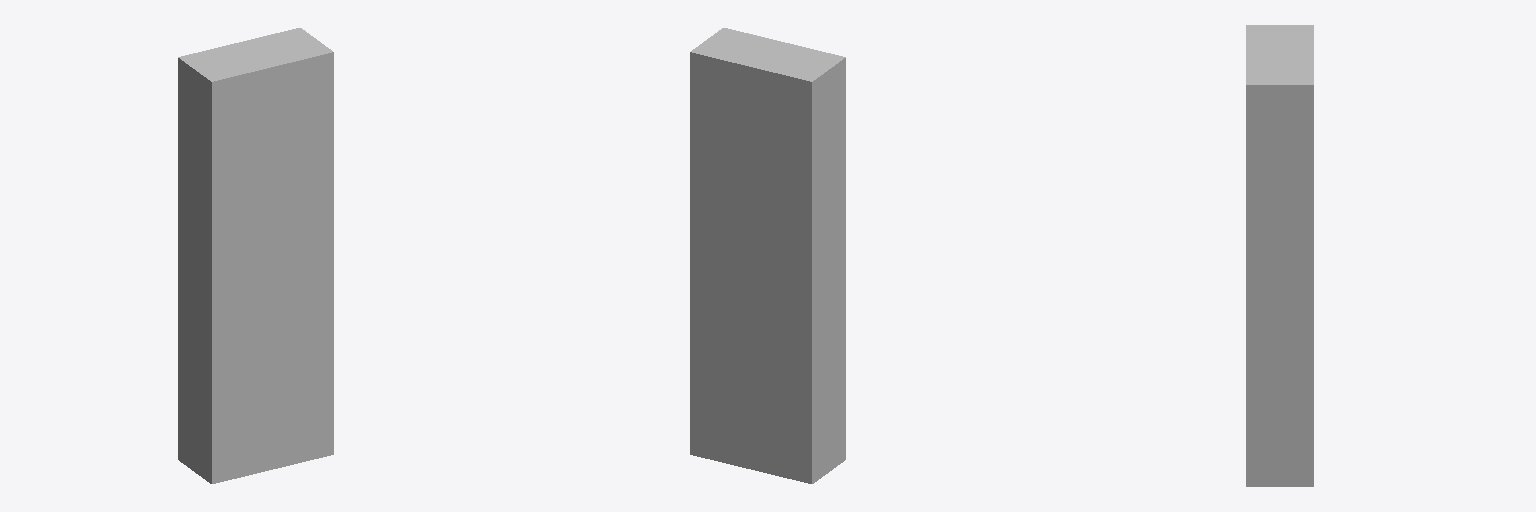
Rendered from window.obj.
3 renders of one model, left to right at view 1: azimuth 30°, elevation 25°; view 2: azimuth 150°, elevation 25°; view 3: azimuth 270°, elevation 25°, orthographic.
Parts seen in each view (by area): view 1: Cube.021_Cube.000; view 2: Cube.021_Cube.000; view 3: Cube.021_Cube.000.
Boxes of the visible parts, x1=… form: Cube.021_Cube.000: x1=178, y1=28, x2=333, y2=483; Cube.021_Cube.000: x1=690, y1=28, x2=845, y2=483; Cube.021_Cube.000: x1=1246, y1=25, x2=1313, y2=486.
Bounding box in the file's own units: 1.18 × 3.7 × 0.5616.